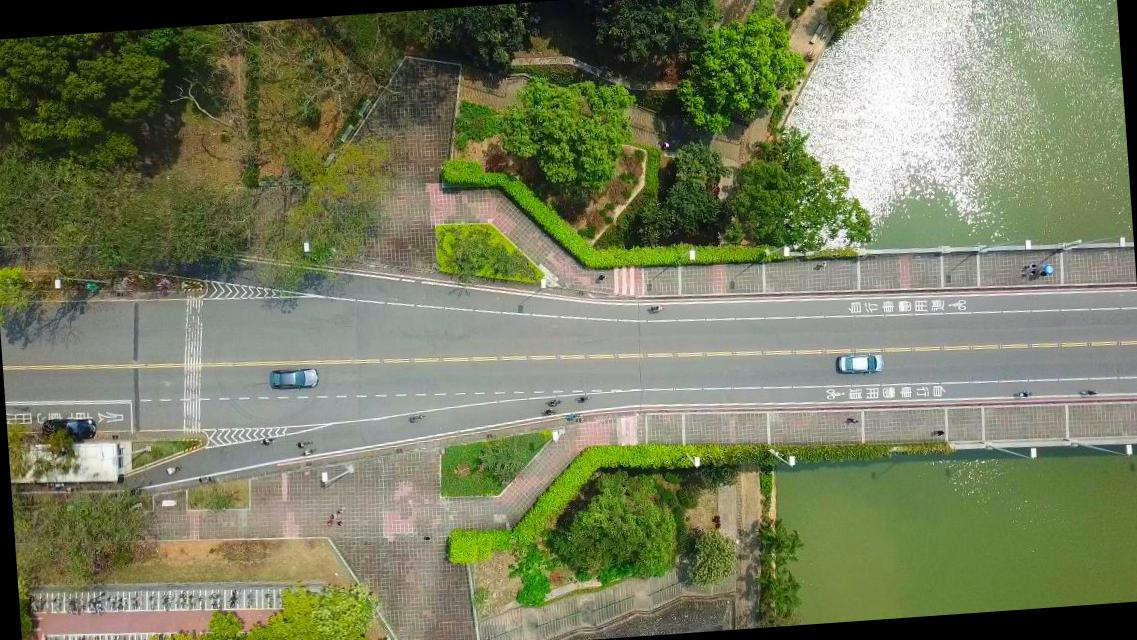vehicle: (40, 415, 96, 443), (268, 366, 317, 391), (837, 352, 883, 376)
